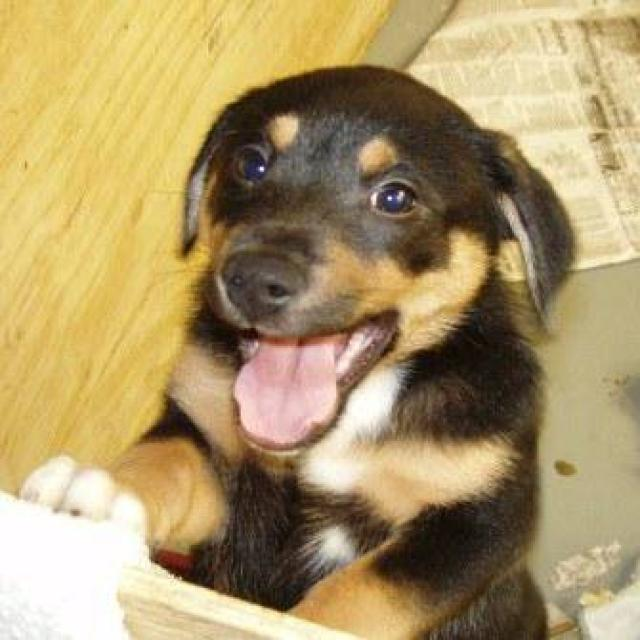dog: (17, 61, 577, 638)
